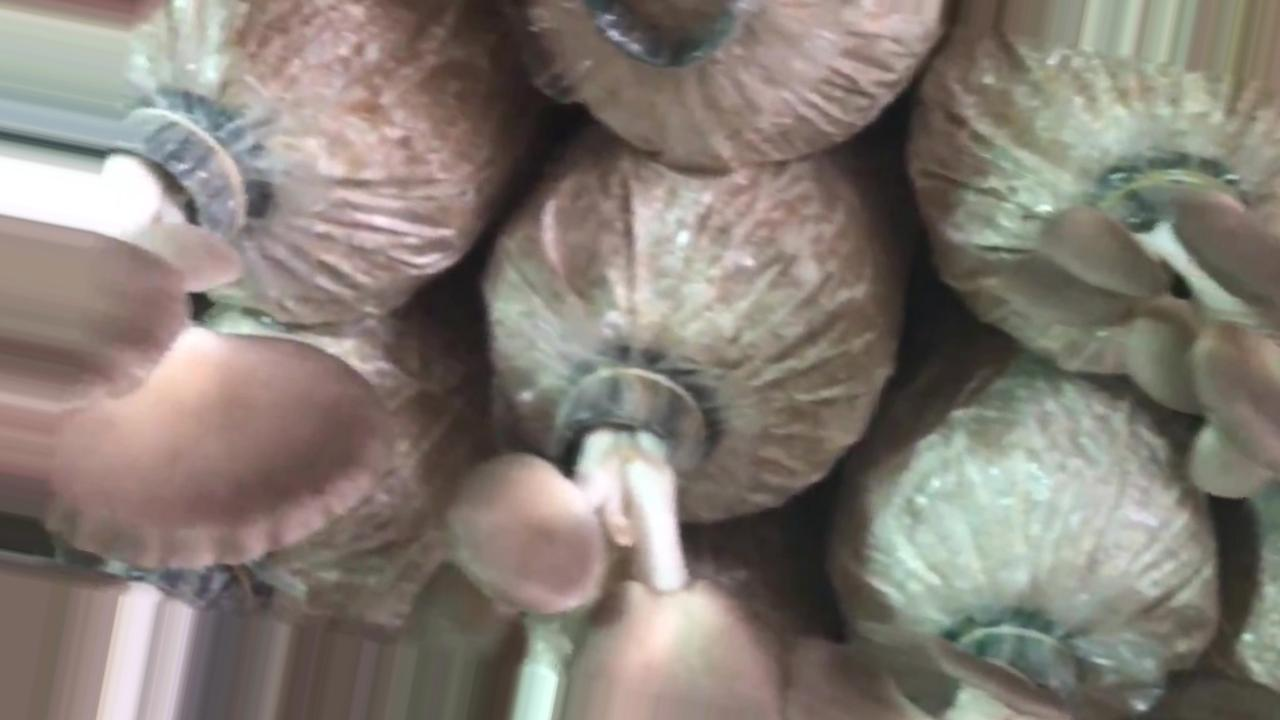nam: (1, 87, 395, 574), (441, 352, 777, 720), (1011, 155, 1280, 502)
